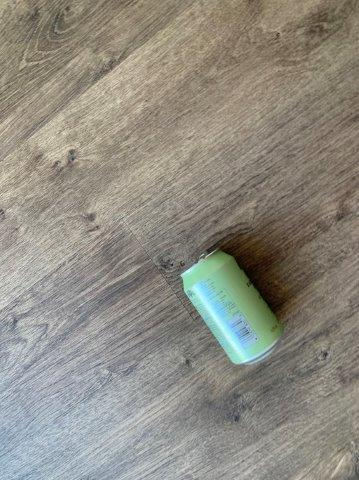kaleng: (182, 248, 282, 365)
